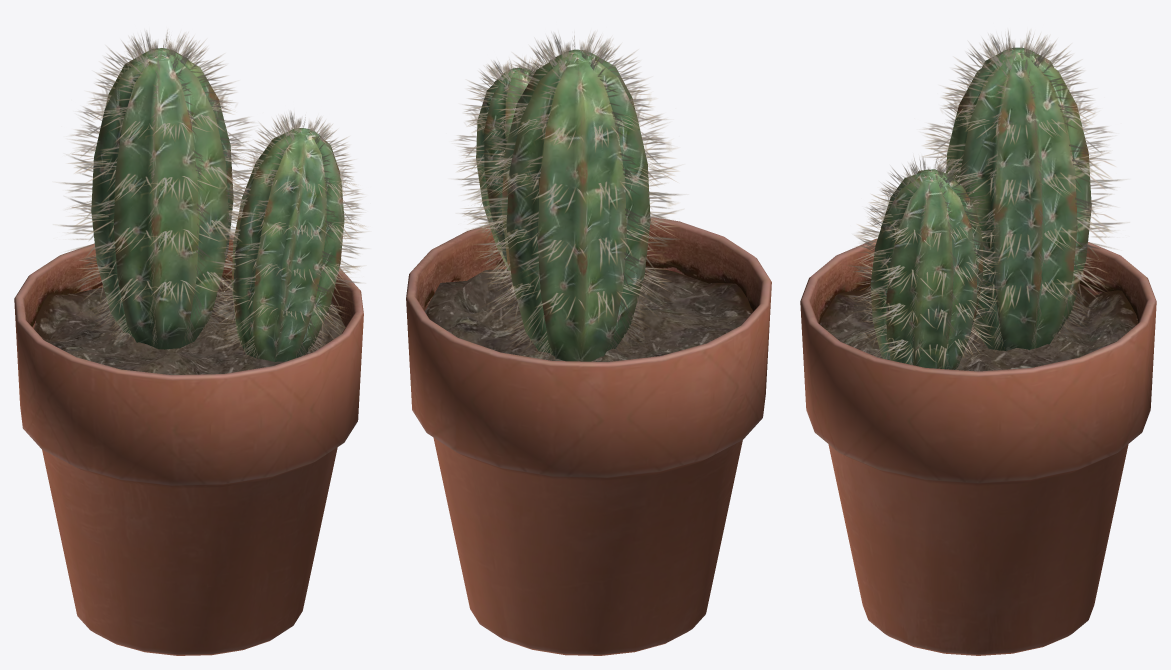
File: sf-cactus.glb
3 views of the same model, side by side, from view 1: azimuth 30°, elevation 25°; view 2: azimuth 150°, elevation 25°; view 3: azimuth 270°, elevation 25° (orthographic). The views are drawn at different scales.
Parts seen in each view (by area): view 1: Cactus_Material #2143937762_0; view 2: Cactus_Material #2143937762_0; view 3: Cactus_Material #2143937762_0.
Boxes of the visible parts, x1=… form: Cactus_Material #2143937762_0: x1=14, y1=30, x2=365, y2=655; Cactus_Material #2143937762_0: x1=406, y1=33, x2=771, y2=655; Cactus_Material #2143937762_0: x1=800, y1=31, x2=1156, y2=655.
Size of the model in its own units: 0.1639 by 0.3 by 0.1639.
1 material, 1 textured.
